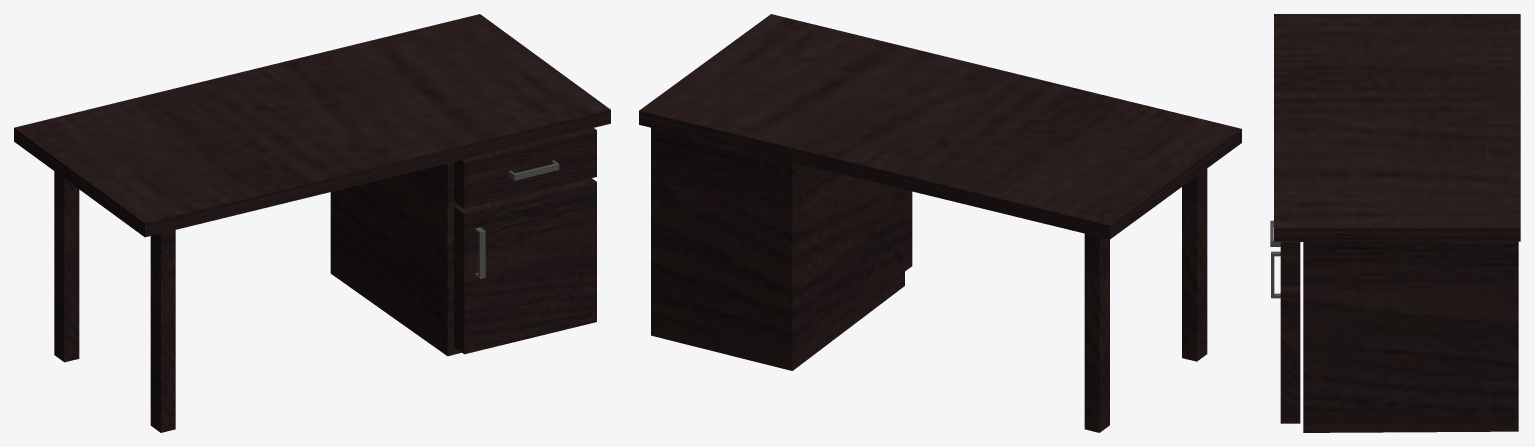
The model's file is table.glb.
3 renders of one model, left to right at view 1: azimuth 30°, elevation 25°; view 2: azimuth 150°, elevation 25°; view 3: azimuth 270°, elevation 25°, orthographic. The views are drawn at different scales.
Visible parts, largest first — view 1: Cube, Cube.005, Cube.003, Cube.004, Cube.002, Cube.001; view 2: Cube, Cube.003, Cube.001, Cube.002, Cube.005; view 3: Cube, Cube.003, Cube.005, Cube.004, Cube.007.
Part boxes in pixels (x1,y1,x2,y2): Cube: (14, 14, 610, 237); Cube.005: (454, 178, 596, 354); Cube.003: (330, 162, 461, 356); Cube.004: (454, 128, 596, 208); Cube.002: (150, 230, 175, 432); Cube.001: (54, 171, 79, 362); Cube: (639, 14, 1241, 239); Cube.003: (651, 128, 904, 370); Cube.001: (1084, 233, 1109, 432); Cube.002: (1182, 168, 1207, 361); Cube.005: (905, 190, 912, 271); Cube: (1274, 14, 1520, 241); Cube.003: (1303, 241, 1518, 432); Cube.005: (1280, 287, 1300, 423); Cube.004: (1280, 241, 1300, 286); Cube.007: (1271, 251, 1280, 298).
Size of the model in its own units: 14 by 6.38 by 6.91.
2 materials, 1 textured.
